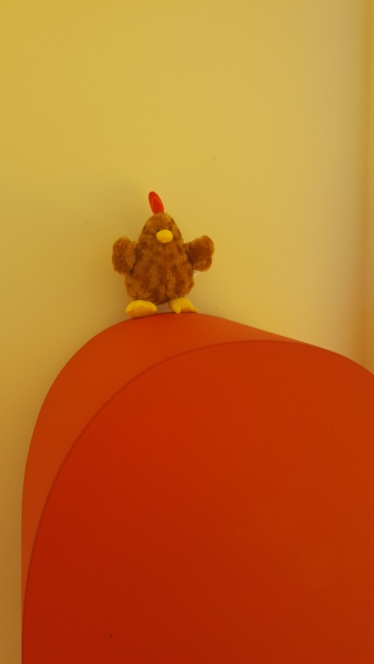chicken_front: (111, 191, 216, 316)
